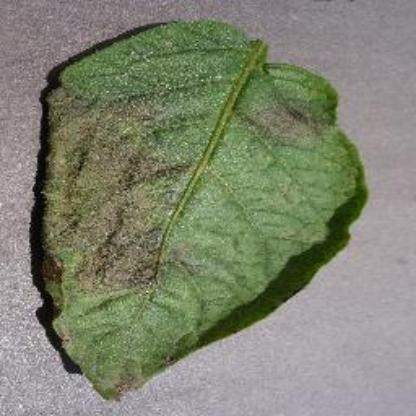Late-Blight: (29, 17, 371, 402)
